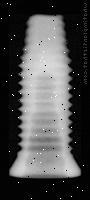Biomet 3i: (9, 14, 81, 178)
